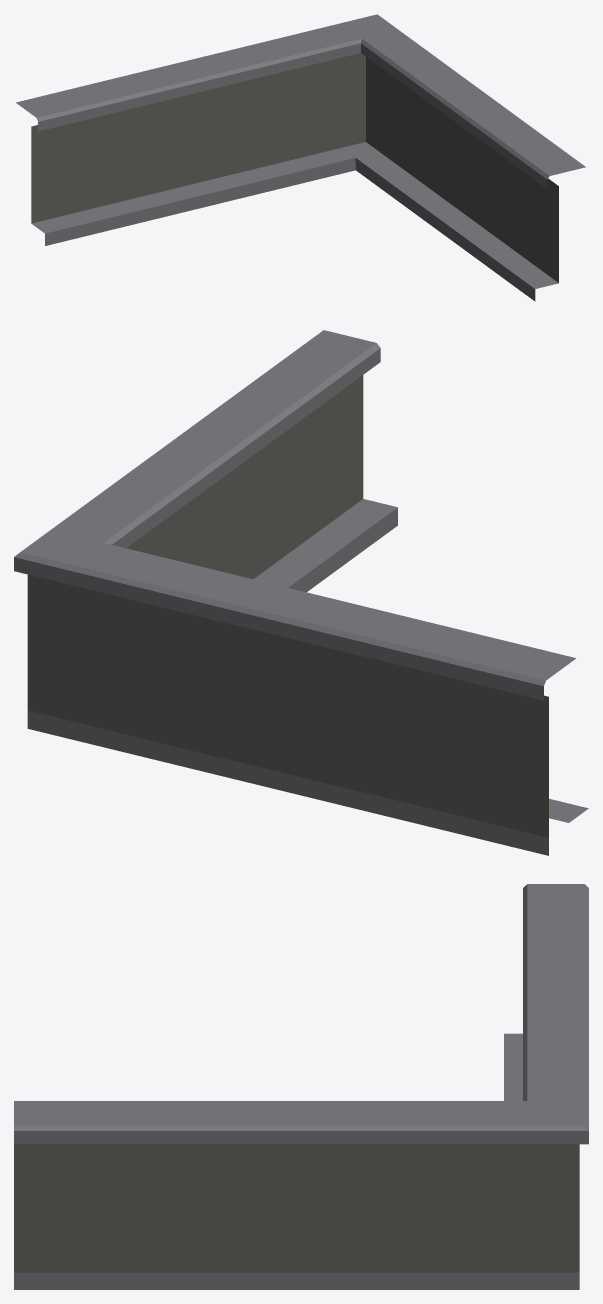
The model's file is SM_Roof_Corner_In.gltf.
The picture shows the model from 3 angles, top to bottom: view 1: azimuth 30°, elevation 25°; view 2: azimuth 150°, elevation 25°; view 3: azimuth 270°, elevation 25°; orthographic projection. The views are drawn at different scales.
Visible parts, largest first — view 1: SM_Roof_Corner_In; view 2: SM_Roof_Corner_In; view 3: SM_Roof_Corner_In.
Part boxes in pixels (x1,y1,x2,y2): SM_Roof_Corner_In: (16,14,585,301); SM_Roof_Corner_In: (14,330,588,855); SM_Roof_Corner_In: (14,884,588,1289).
Size of the model in its own units: 3.05 by 0.9755 by 3.05.
Materials: 1 (1 with a texture image).
